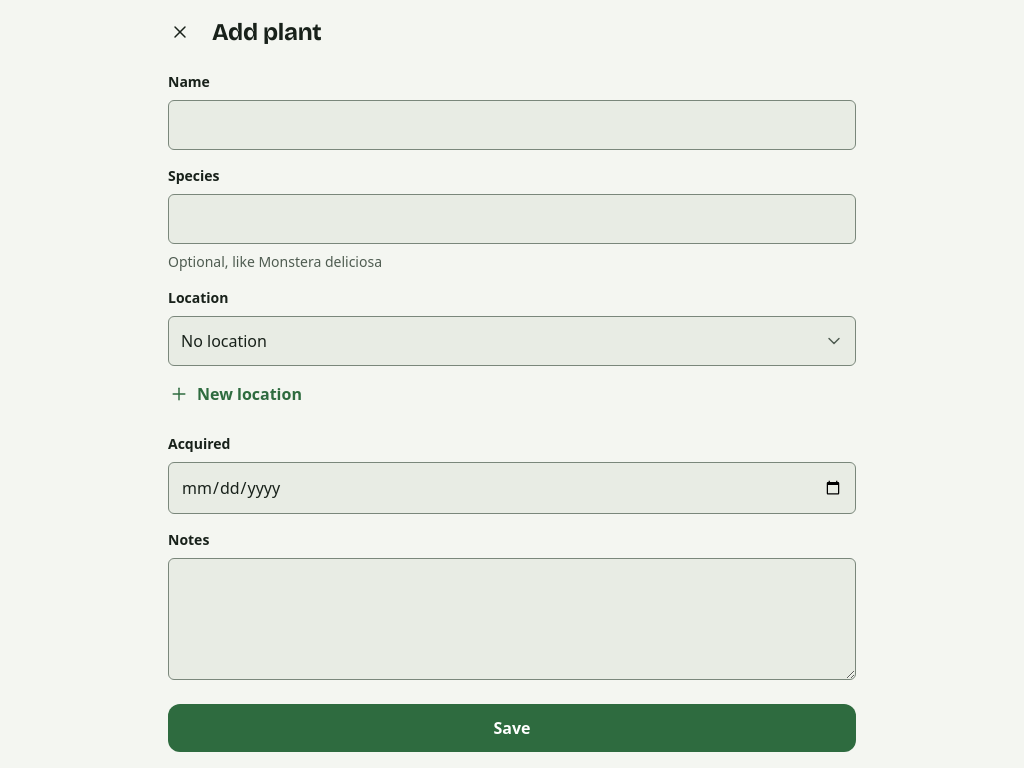
Plant form › creates the plant with trimmed fields and opens its detail page
The width and height of the screenshot is (1024, 768).
Step 1. Type "  Monstera " into the field labelled "Name" → (512, 125), box x1=168 y1=100 x2=856 y2=150
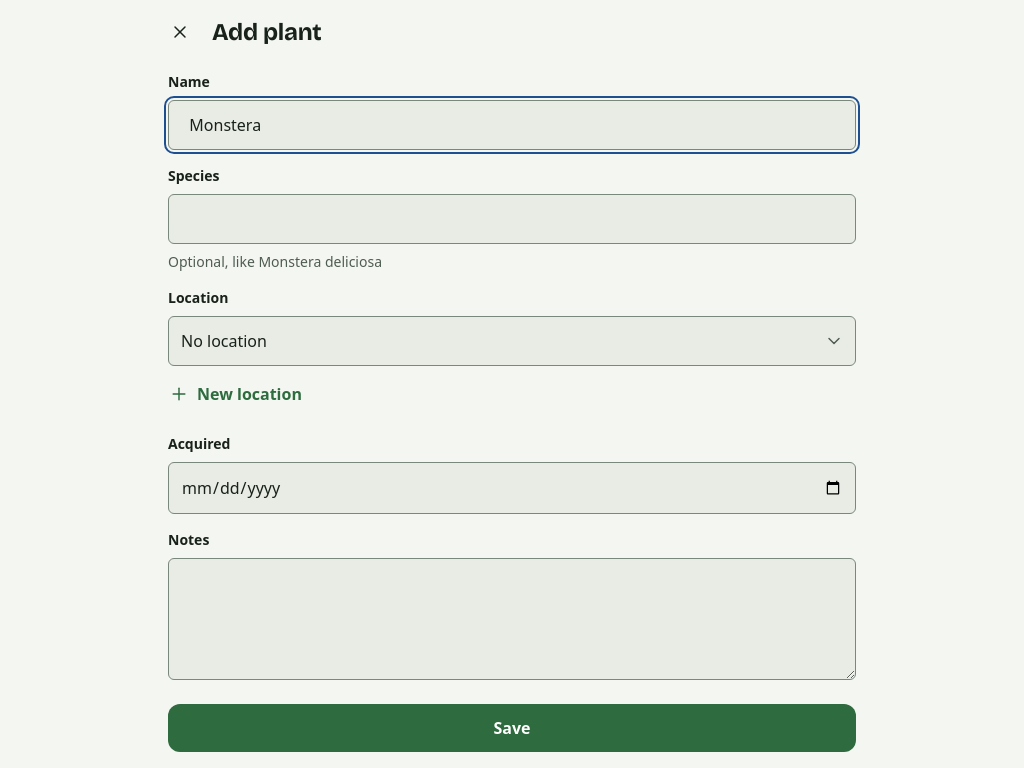
Step 2. Select "Kitchen" in the dropdown labelled "Location" → (512, 341), box x1=168 y1=316 x2=856 y2=366
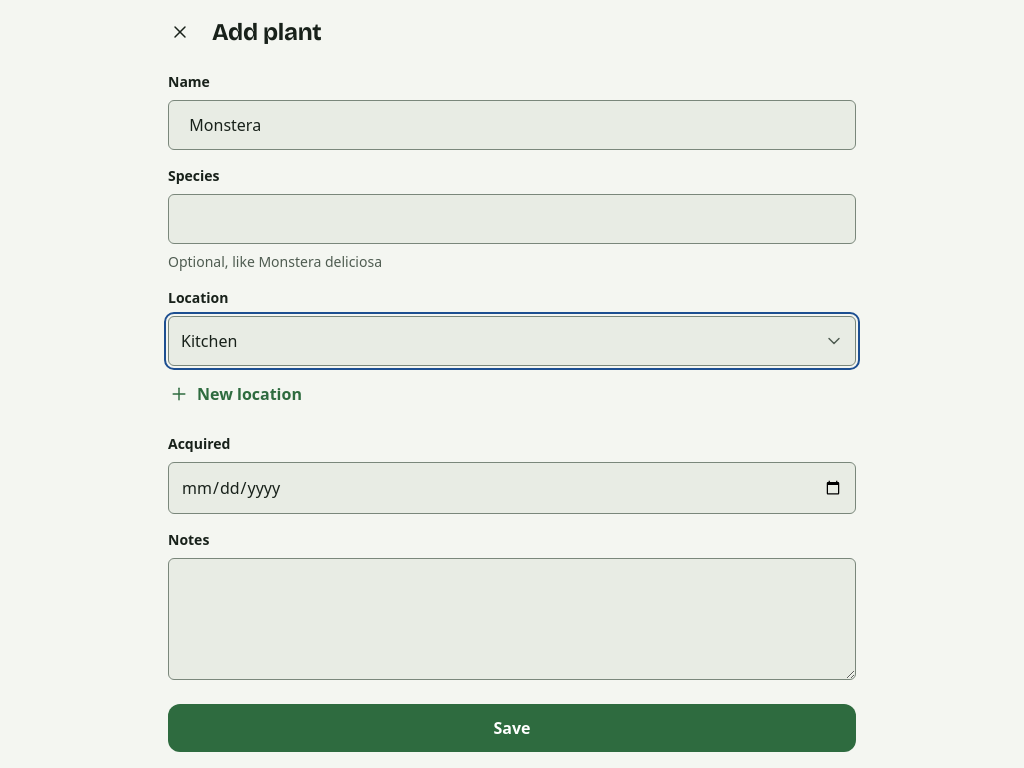
Step 3. Click the button "Save" → (512, 728), box x1=168 y1=704 x2=856 y2=752
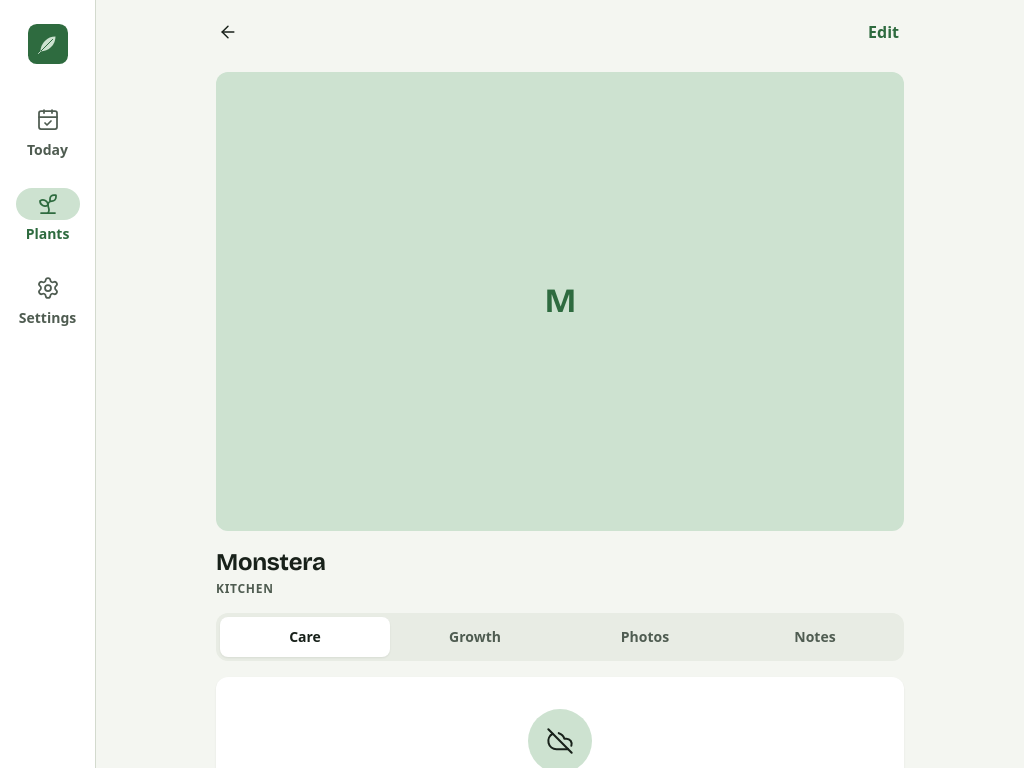
Expected: the heading "Monstera" is shown, x1=216 y1=548 x2=326 y2=576
